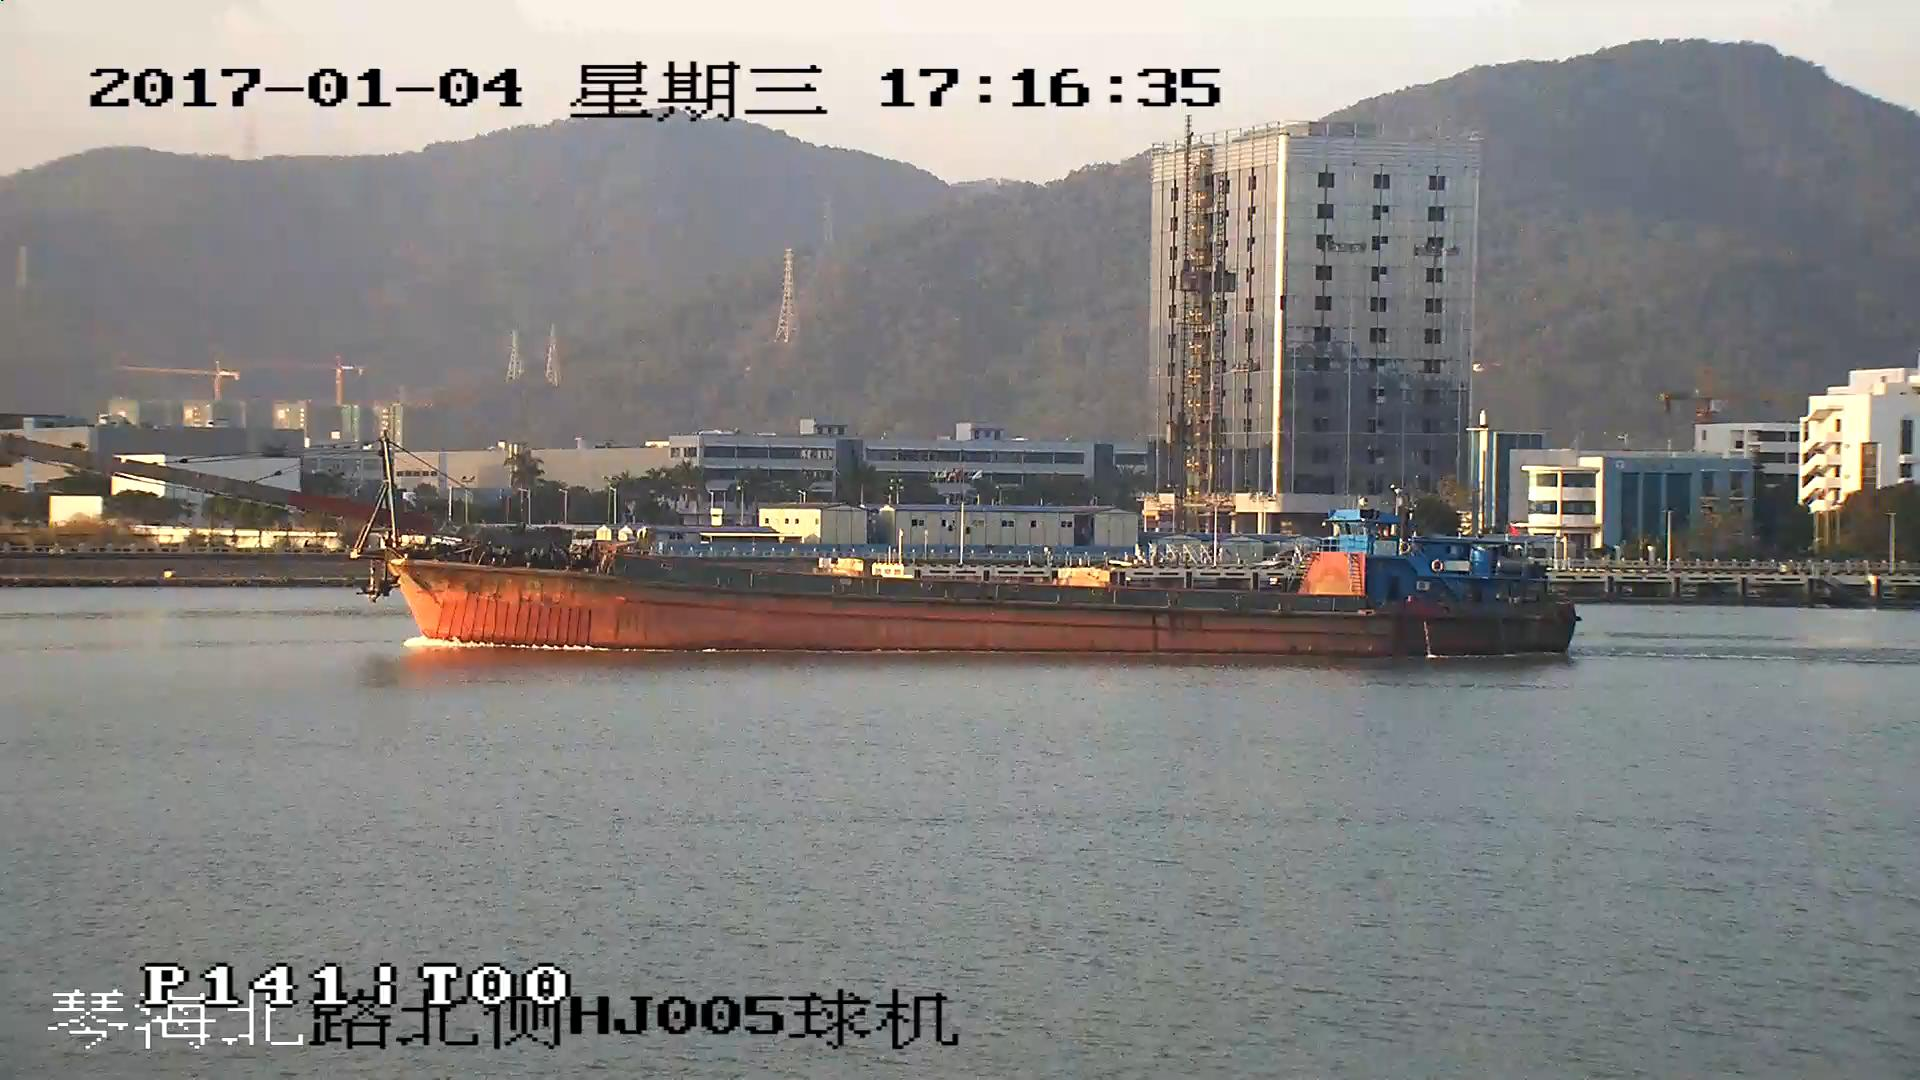bulk cargo carrier: (4, 433, 1577, 660)
